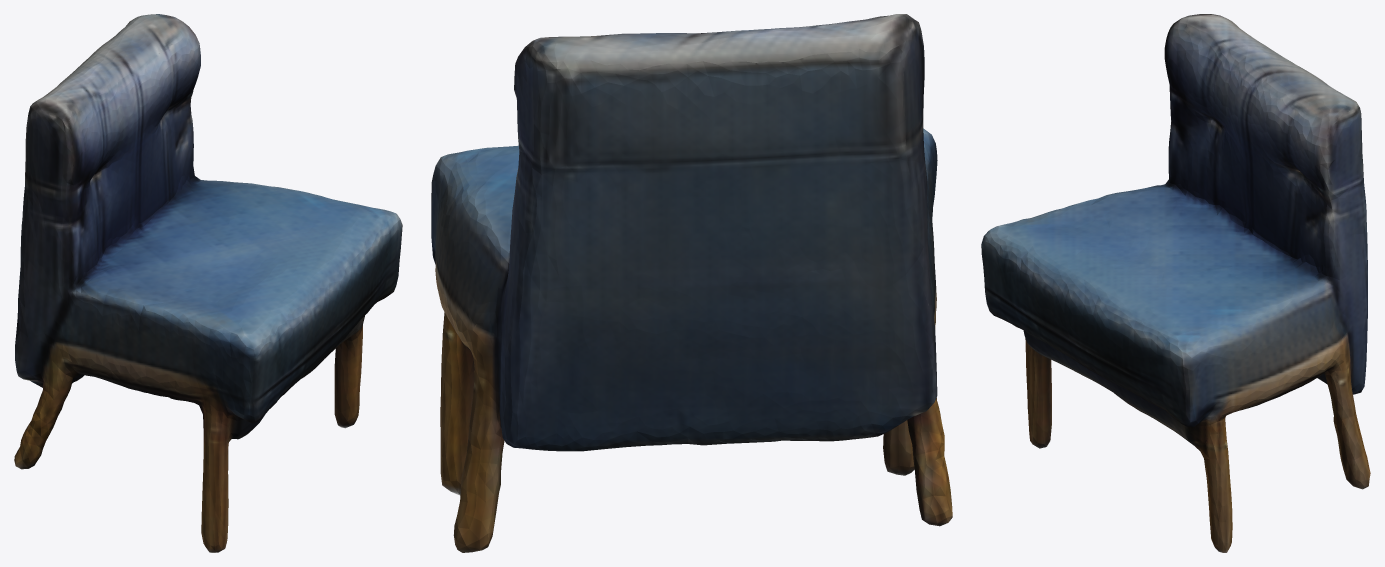
Rendered from SESSION_1713818309_5562008_preview-2.gltf.
3 renders of one model, left to right at view 1: azimuth 30°, elevation 25°; view 2: azimuth 150°, elevation 25°; view 3: azimuth 270°, elevation 25°, orthographic. The views are drawn at different scales.
Parts seen in each view (by area): view 1: output; view 2: output; view 3: output.
Boxes of the visible parts, x1,y1,x2,y2 form: output: [14, 14, 402, 552]; output: [431, 14, 952, 552]; output: [981, 14, 1370, 552].
Size of the model in its own units: 1.28 by 1.31 by 1.17.
Materials: 1 (1 with a texture image).
